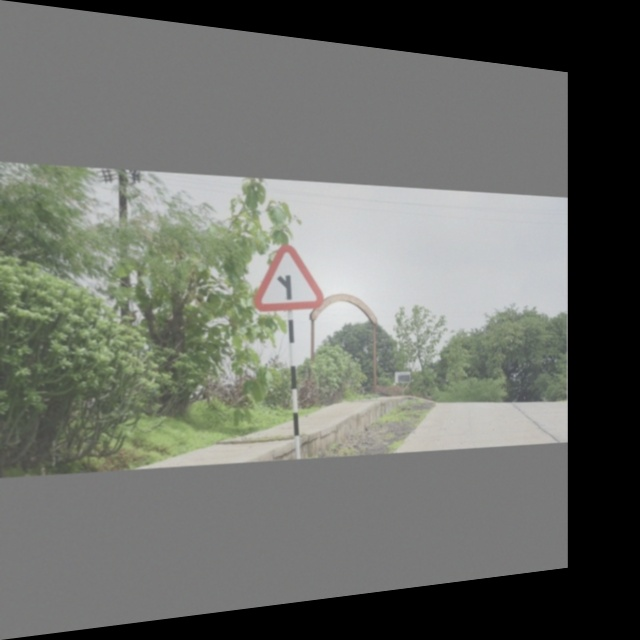Y_Intersection: (254, 233, 323, 313)
